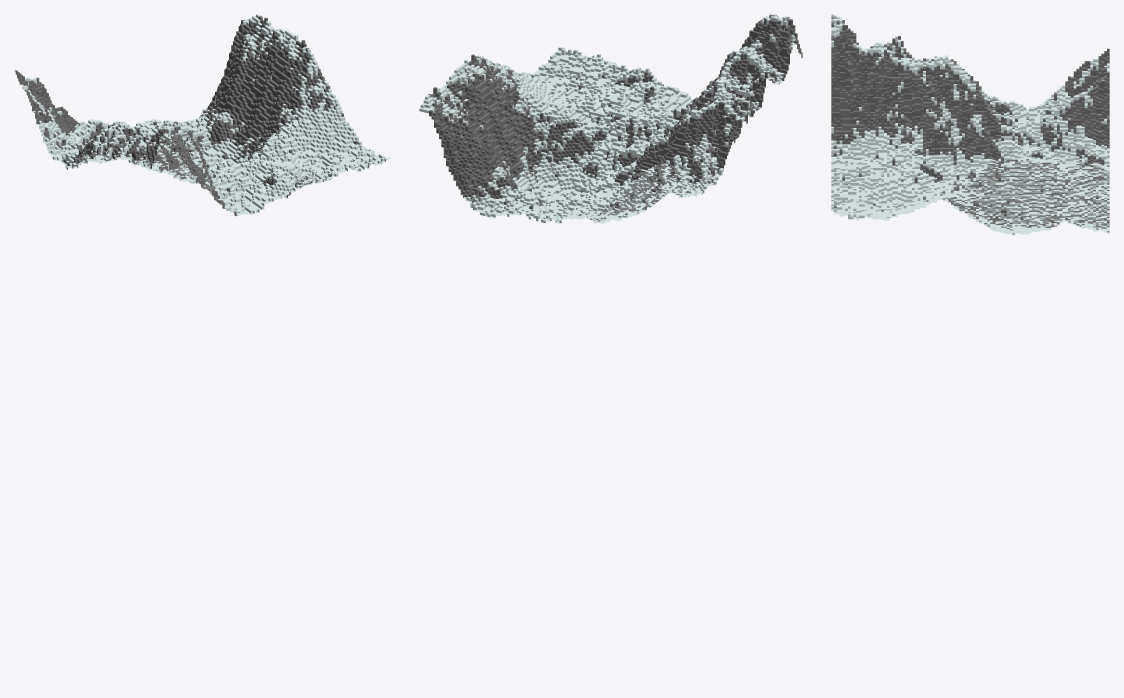
File: chunk2700--1700-lvl-1-transformed.glb
3 views of the same model, side by side, from view 1: azimuth 30°, elevation 25°; view 2: azimuth 150°, elevation 25°; view 3: azimuth 270°, elevation 25° (orthographic).
Parts seen in each view (by area): view 1: Snow_Block, Stone, Cobblestone; view 2: Snow_Block, Cobblestone, Stone; view 3: Snow_Block, Stone, Cobblestone.
Boxes of the visible parts, x1=… form: Snow_Block: x1=20, y1=14, x2=390, y2=215; Stone: x1=19, y1=16, x2=374, y2=208; Cobblestone: x1=14, y1=17, x2=357, y2=216; Snow_Block: x1=419, y1=14, x2=796, y2=224; Cobblestone: x1=429, y1=18, x2=801, y2=219; Stone: x1=428, y1=14, x2=802, y2=221; Snow_Block: x1=831, y1=14, x2=1109, y2=235; Stone: x1=831, y1=21, x2=1109, y2=232; Cobblestone: x1=831, y1=17, x2=1109, y2=230.
Size of the model in its own units: 100 by 221 by 100.
14 materials, 14 textured.
